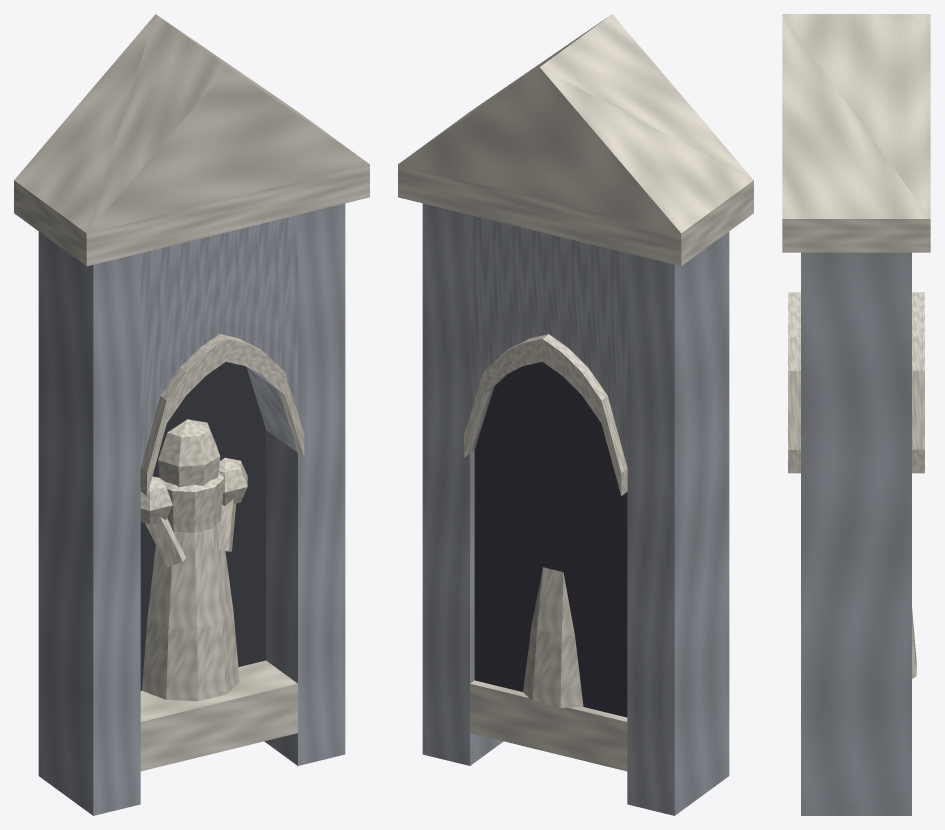
The model's file is vampire-crypt-and-gothic-cathedral-niche-statue-2872cb80__22970.glb.
3 views of the same model, side by side, from view 1: azimuth 30°, elevation 25°; view 2: azimuth 150°, elevation 25°; view 3: azimuth 270°, elevation 25° (orthographic). The views are drawn at different scales.
Visible parts, largest first — view 1: niche-statue; view 2: niche-statue; view 3: niche-statue.
Boxes of the visible parts, x1,y1,x2,y2 form: niche-statue: (14, 14, 369, 815); niche-statue: (398, 14, 753, 815); niche-statue: (782, 14, 930, 815).
Bounding box in the file's own units: 1.8 × 4.4 × 0.7998.
Materials: 3 (2 with a texture image).
